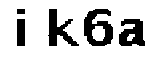6: (81, 6, 113, 49)
a: (117, 16, 147, 50)
i: (12, 6, 29, 52)
k: (45, 6, 80, 52)
